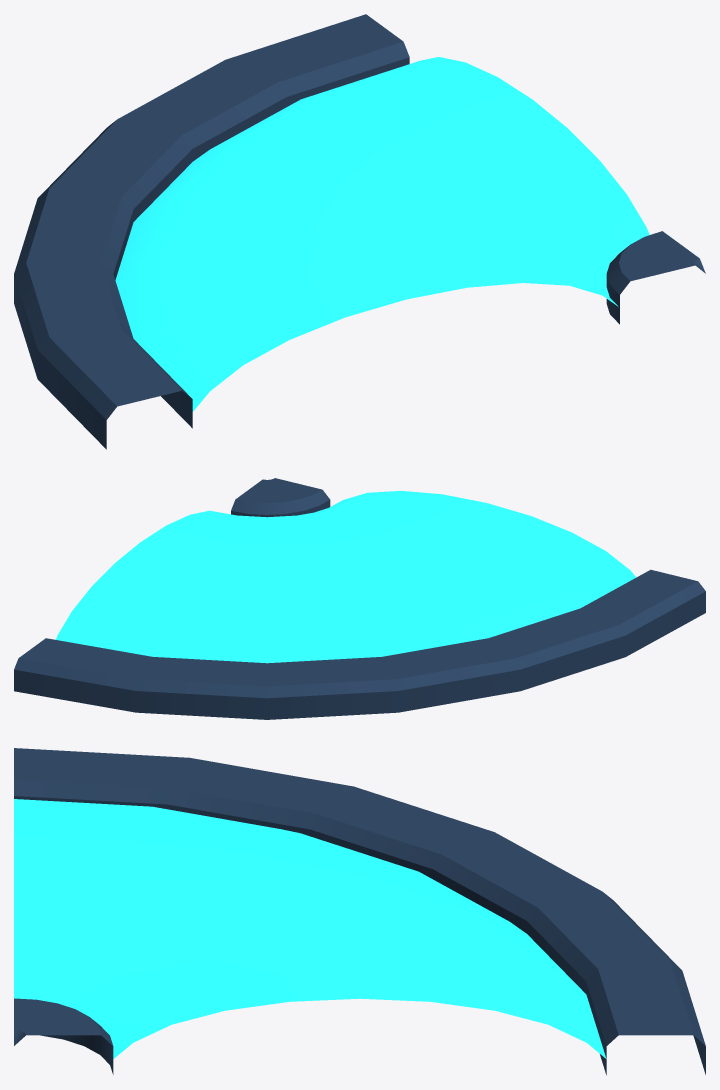
File: Light_Trim_01_RoundShortCorner.glb
3 views of the same model, one above another, from view 1: azimuth 30°, elevation 25°; view 2: azimuth 150°, elevation 25°; view 3: azimuth 270°, elevation 25° (orthographic). The views are drawn at different scales.
Parts seen in each view (by area): view 1: Light_Trim_01_RoundShortCorner.001; view 2: Light_Trim_01_RoundShortCorner.001; view 3: Light_Trim_01_RoundShortCorner.001.
Boxes of the visible parts, left/top/right/bottom form: Light_Trim_01_RoundShortCorner.001: left=14, top=14, right=705, bottom=449; Light_Trim_01_RoundShortCorner.001: left=14, top=478, right=705, bottom=719; Light_Trim_01_RoundShortCorner.001: left=14, top=748, right=705, bottom=1075.
Bounding box in the file's own units: 0.1 × 0.0123 × 0.1.
